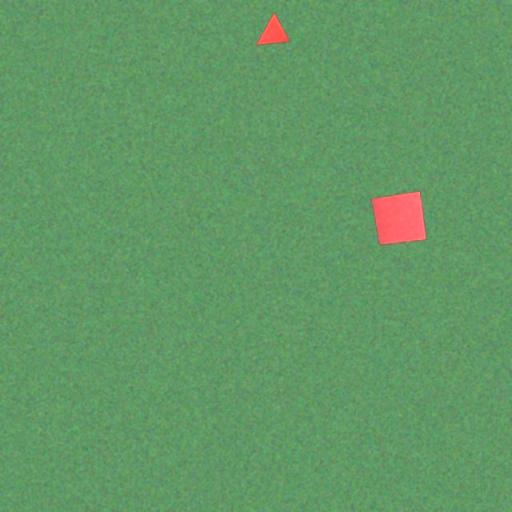RED_SQUARE: (370, 190, 428, 246)
